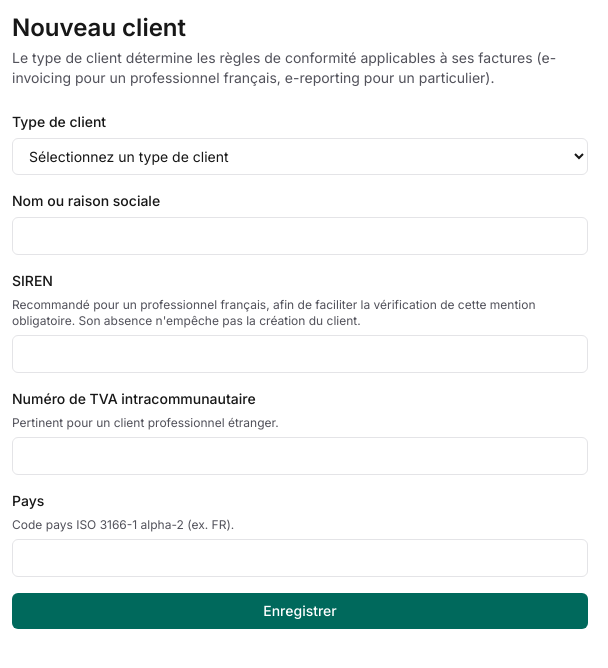
Test: CustomerForm › maps a 422 validation error to the corresponding field
This screenshot has width=608, height=668.
Step 1. Select "Particulier" in the dropdown labelled "Type de client" → (300, 156), box top-left (12, 138), bottom-right (588, 175)
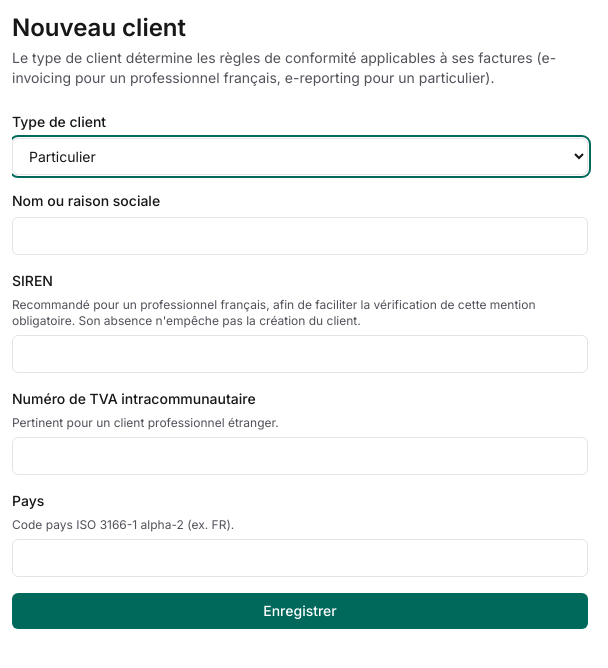
Step 2. Type "Jean Dupont" into the field labelled "Nom ou raison sociale" → (300, 236), box top-left (12, 217), bottom-right (588, 255)
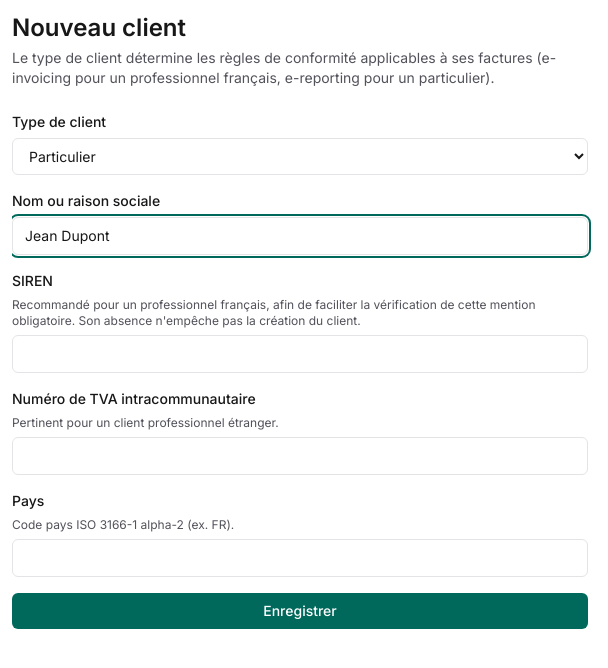
Step 3. Click the button "Enregistrer" → (300, 611), box top-left (12, 593), bottom-right (588, 629)
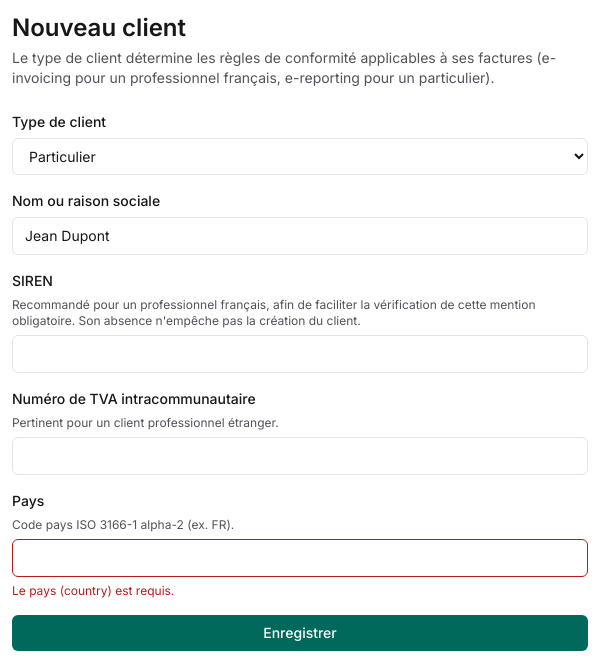
Check: the text "Le pays (country) est requis." is shown, box top-left (12, 583), bottom-right (174, 598)
